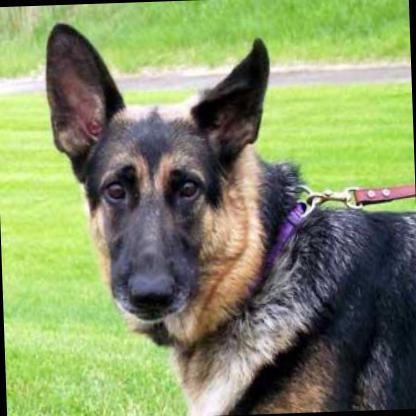German_shepherd: (39, 8, 416, 416)
